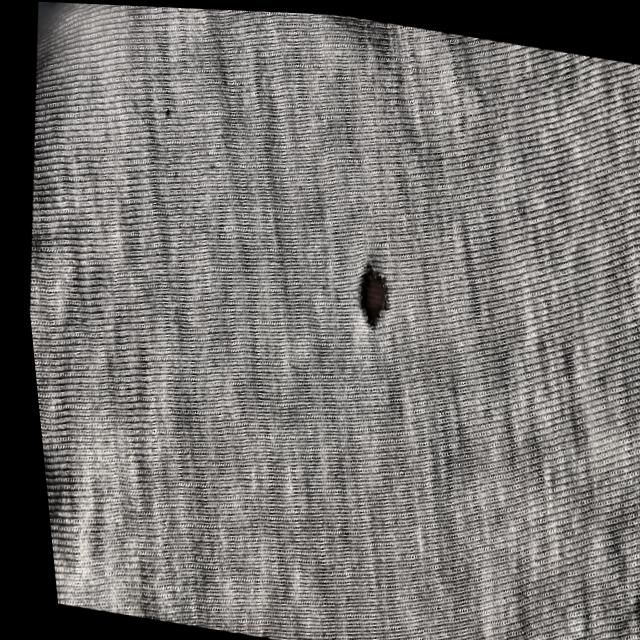Hole: (331, 247, 398, 339)
